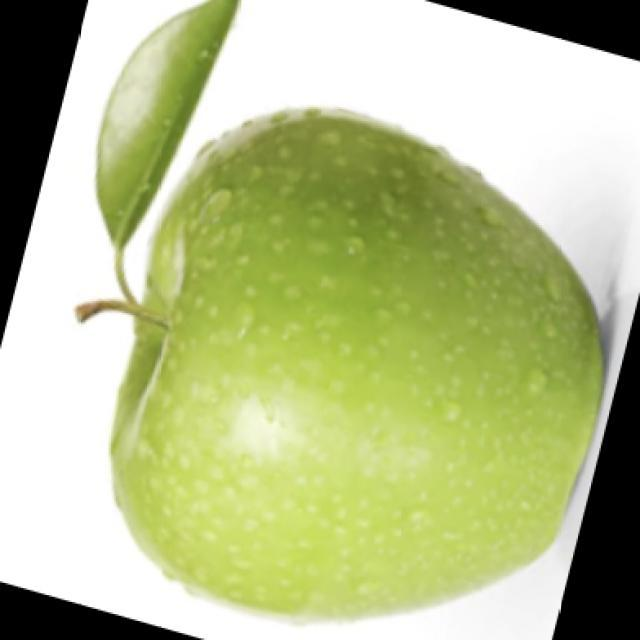Fresh Apple: (88, 122, 585, 630)
